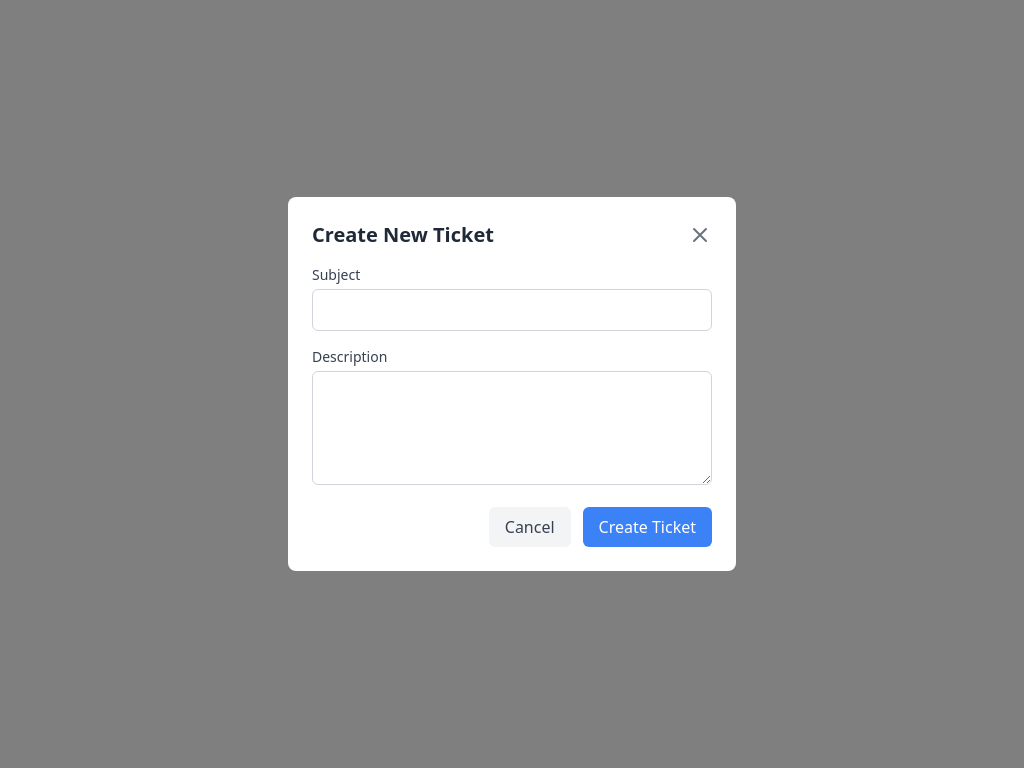
Test: CreateTicketModal › should show error message when submission fails
The image size is (1024, 768).
Type "Test Ticket" into the field labelled "Subject" at point(512, 310), box [312, 289, 712, 331]
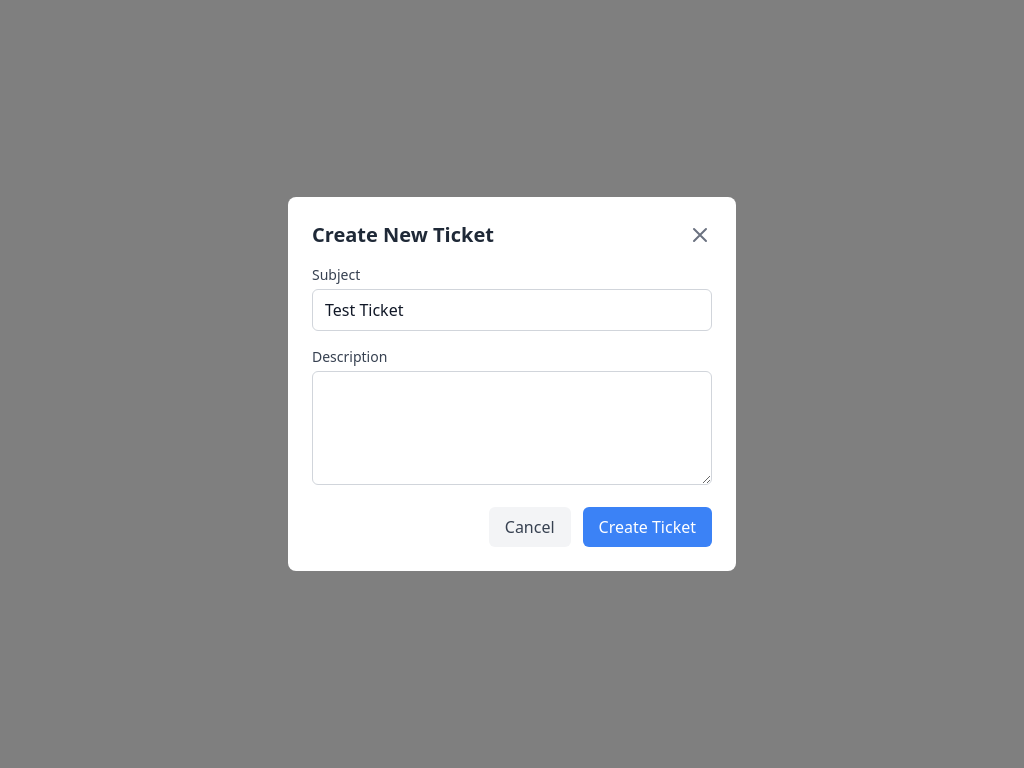
Type "This is a test ticket description" into the text box labelled "Description" at point(512, 428), box [312, 371, 712, 485]
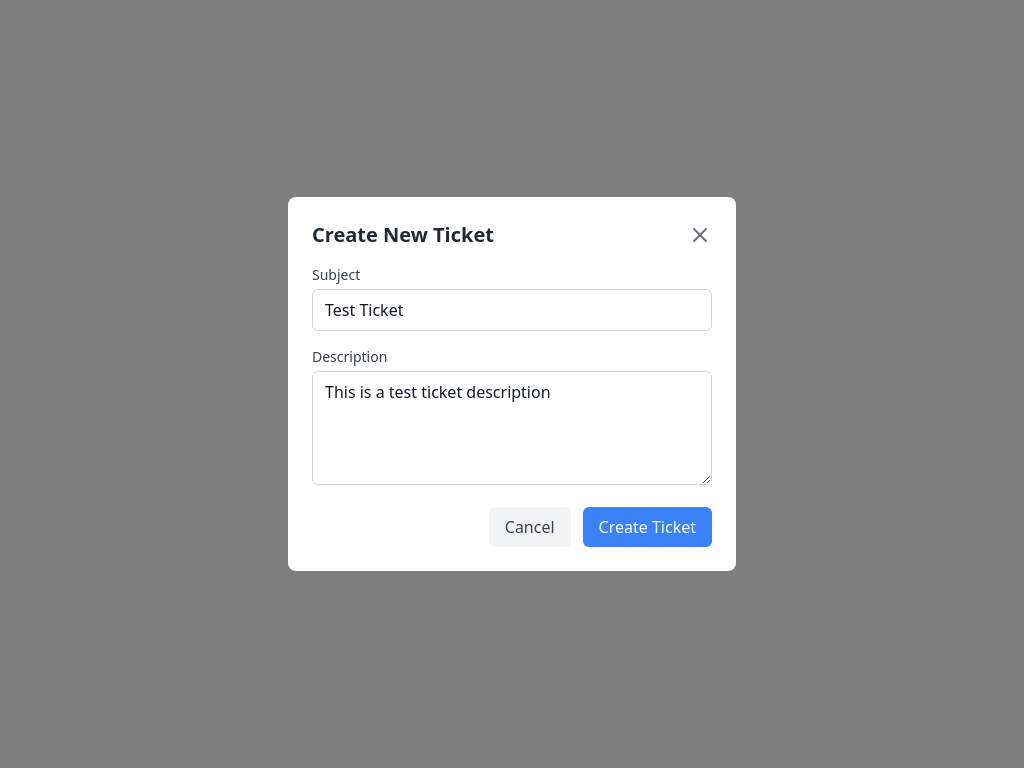
Click the button "Create Ticket" at point(647, 527), box [583, 507, 712, 547]
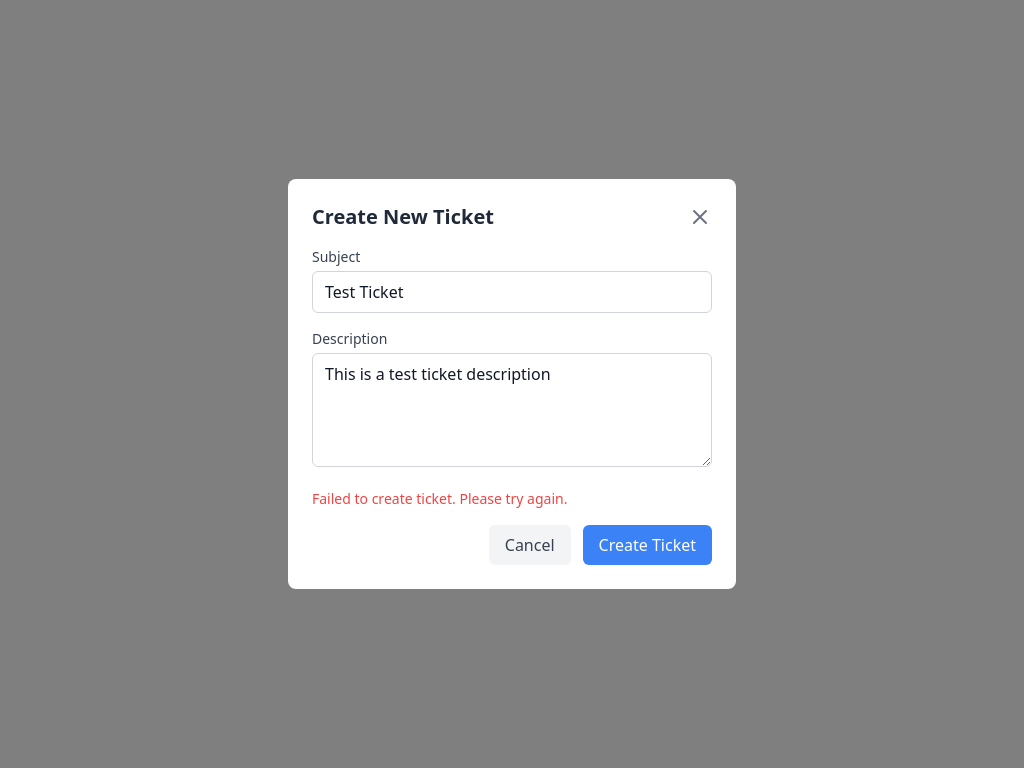
Expected: the text "Failed to create ticket. Please try again." is shown, [312, 489, 568, 508]
